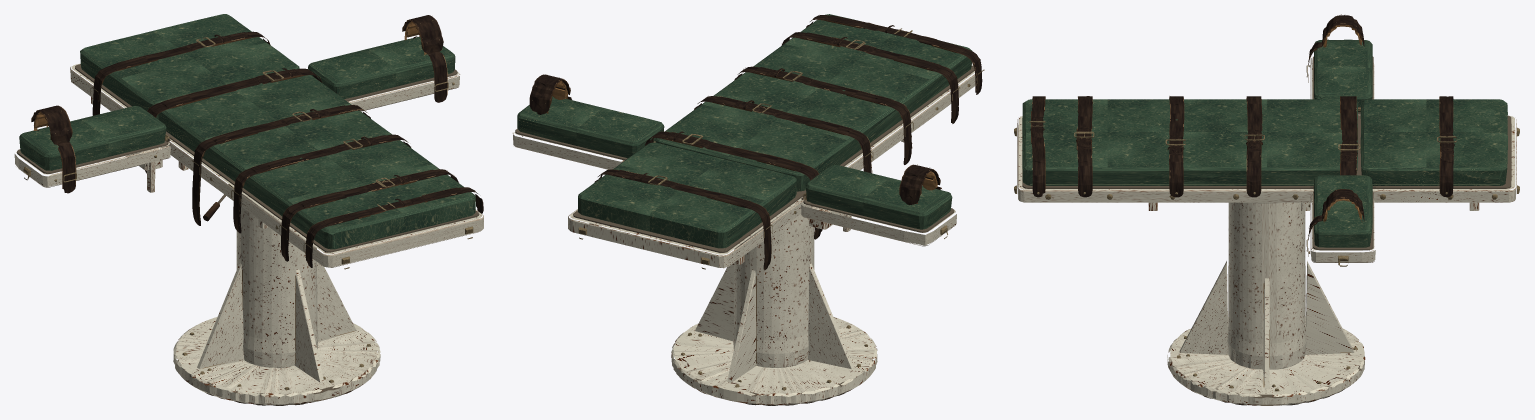
Rendered from execution_table.glb.
3 renders of one model, left to right at view 1: azimuth 30°, elevation 25°; view 2: azimuth 150°, elevation 25°; view 3: azimuth 270°, elevation 25°, orthographic. The views are drawn at different scales.
Parts seen in each view (by area): view 1: 05_Body_Cushion_2eff5f, 02_Pedestal_Column_ac9c30, 04_Head_Cushion_a341fc, 07_Leather_Restraints_cb21a5, 06_Armboards_973f87, 01_Pedestal_Base_a44426, 03_Main_Frame_085efe, 09_Padded_Wrist_Cuffs_d8a6f8, 06_Armboards_083d96, 03_Main_Frame_ca5385, 03_Main_Frame_c2d348, 06_Armboards_b8d239 (+3 smaller); view 2: 05_Body_Cushion_2eff5f, 02_Pedestal_Column_ac9c30, 04_Head_Cushion_a341fc, 06_Armboards_973f87, 07_Leather_Restraints_cb21a5, 01_Pedestal_Base_a44426, 03_Main_Frame_085efe, 06_Armboards_083d96, 09_Padded_Wrist_Cuffs_d8a6f8, 03_Main_Frame_ca5385, 06_Armboards_e7adbf, 01_Pedestal_Base_438e47 (+4 smaller); view 3: 05_Body_Cushion_2eff5f, 02_Pedestal_Column_ac9c30, 04_Head_Cushion_a341fc, 07_Leather_Restraints_cb21a5, 01_Pedestal_Base_a44426, 06_Armboards_973f87, 03_Main_Frame_085efe, 03_Main_Frame_ca5385, 03_Main_Frame_c2d348, 09_Padded_Wrist_Cuffs_d8a6f8, 06_Armboards_083d96, 01_Pedestal_Base_438e47 (+2 smaller).
Boxes of the visible parts, x1=… form: 05_Body_Cushion_2eff5f: x1=158, y1=75, x2=475, y2=249; 02_Pedestal_Column_ac9c30: x1=197, y1=193, x2=356, y2=382; 04_Head_Cushion_a341fc: x1=80, y1=14, x2=299, y2=119; 07_Leather_Restraints_cb21a5: x1=92, y1=31, x2=483, y2=267; 06_Armboards_973f87: x1=19, y1=37, x2=455, y2=170; 01_Pedestal_Base_a44426: x1=173, y1=317, x2=380, y2=404; 03_Main_Frame_085efe: x1=70, y1=63, x2=483, y2=267; 09_Padded_Wrist_Cuffs_d8a6f8: x1=31, y1=15, x2=447, y2=193; 06_Armboards_083d96: x1=14, y1=72, x2=459, y2=186; 03_Main_Frame_ca5385: x1=75, y1=64, x2=479, y2=252; 03_Main_Frame_c2d348: x1=70, y1=67, x2=483, y2=267; 06_Armboards_b8d239: x1=18, y1=73, x2=459, y2=192; 05_Body_Cushion_2eff5f: x1=655, y1=14, x2=972, y2=191; 02_Pedestal_Column_ac9c30: x1=695, y1=200, x2=853, y2=382; 04_Head_Cushion_a341fc: x1=578, y1=142, x2=796, y2=248; 06_Armboards_973f87: x1=517, y1=96, x2=952, y2=229; 07_Leather_Restraints_cb21a5: x1=594, y1=15, x2=982, y2=270; 01_Pedestal_Base_a44426: x1=671, y1=317, x2=877, y2=404; 03_Main_Frame_085efe: x1=568, y1=65, x2=975, y2=267; 06_Armboards_083d96: x1=513, y1=132, x2=956, y2=245; 09_Padded_Wrist_Cuffs_d8a6f8: x1=529, y1=74, x2=941, y2=204; 03_Main_Frame_ca5385: x1=573, y1=65, x2=974, y2=252; 06_Armboards_e7adbf: x1=515, y1=128, x2=954, y2=232; 01_Pedestal_Base_438e47: x1=671, y1=327, x2=877, y2=405; 05_Body_Cushion_2eff5f: x1=1022, y1=99, x2=1357, y2=185; 02_Pedestal_Column_ac9c30: x1=1179, y1=202, x2=1354, y2=388; 04_Head_Cushion_a341fc: x1=1360, y1=99, x2=1507, y2=185; 07_Leather_Restraints_cb21a5: x1=1031, y1=96, x2=1453, y2=197; 01_Pedestal_Base_a44426: x1=1167, y1=317, x2=1364, y2=404; 06_Armboards_973f87: x1=1313, y1=39, x2=1372, y2=247; 03_Main_Frame_085efe: x1=1017, y1=115, x2=1516, y2=202; 03_Main_Frame_ca5385: x1=1022, y1=115, x2=1511, y2=196; 03_Main_Frame_c2d348: x1=1017, y1=116, x2=1516, y2=210; 09_Padded_Wrist_Cuffs_d8a6f8: x1=1308, y1=15, x2=1364, y2=240; 06_Armboards_083d96: x1=1310, y1=57, x2=1375, y2=262; 01_Pedestal_Base_438e47: x1=1168, y1=329, x2=1365, y2=405.
Bounding box in the file's own units: 2.06 × 1.27 × 2.23.
11 materials, 6 textured.
